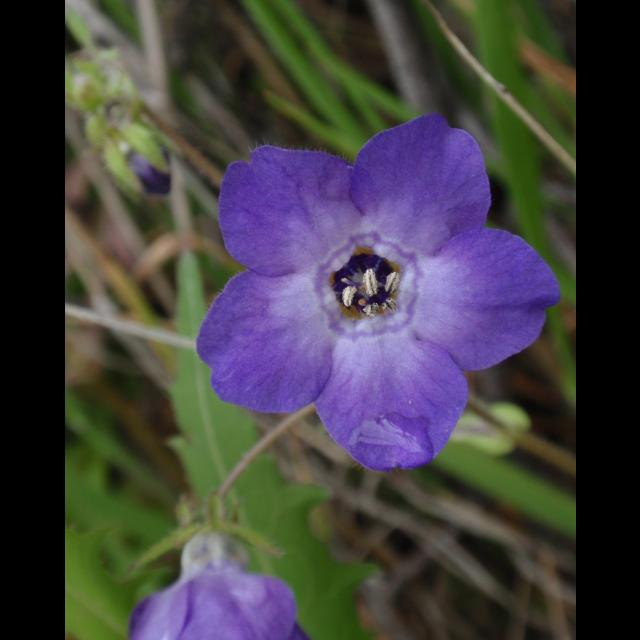Flower: (192, 113, 562, 477), (127, 536, 306, 640), (92, 120, 178, 200)
